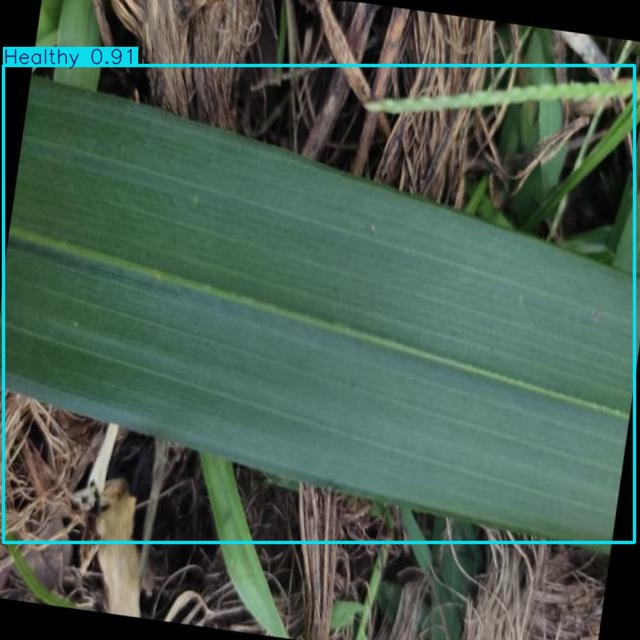Healthy: (3, 66, 635, 542)
